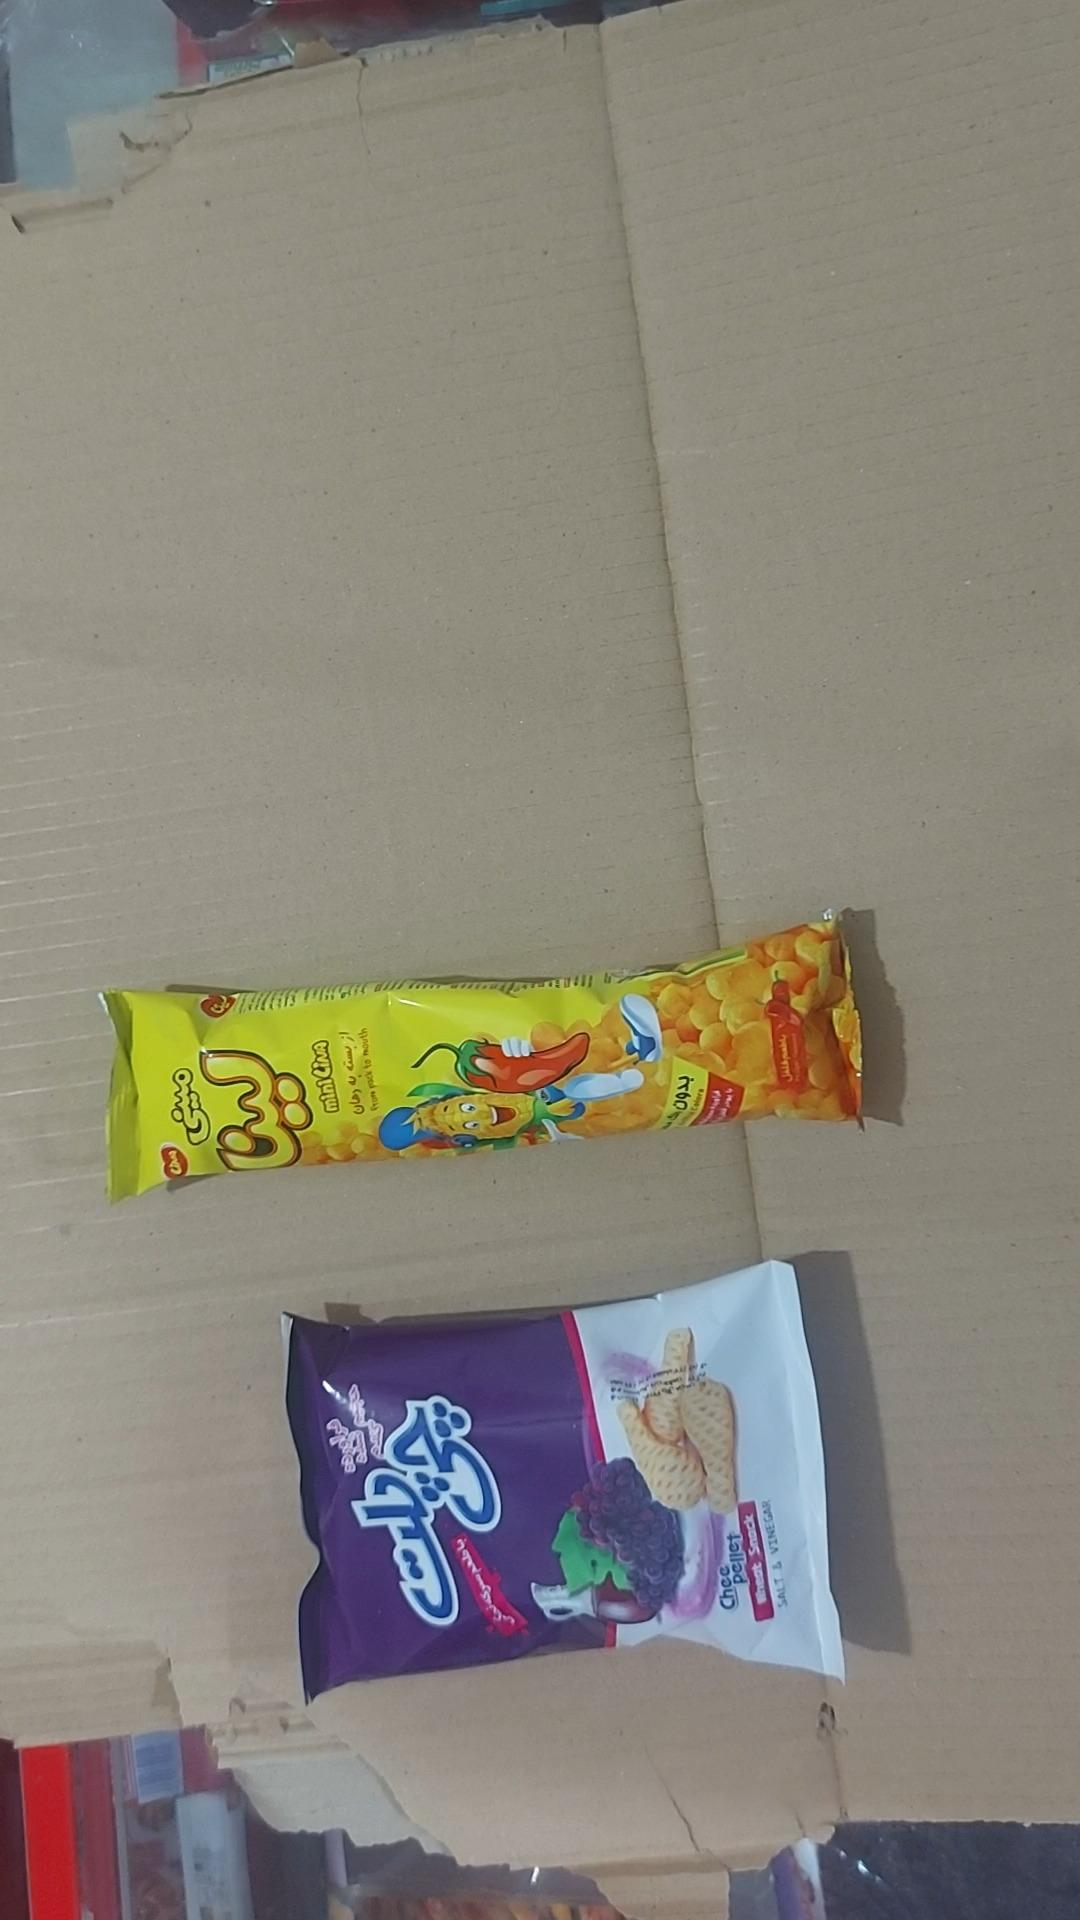Chee pellet vinegar: (284, 1261, 847, 1702)
Mini Lina: (102, 916, 862, 1205)
